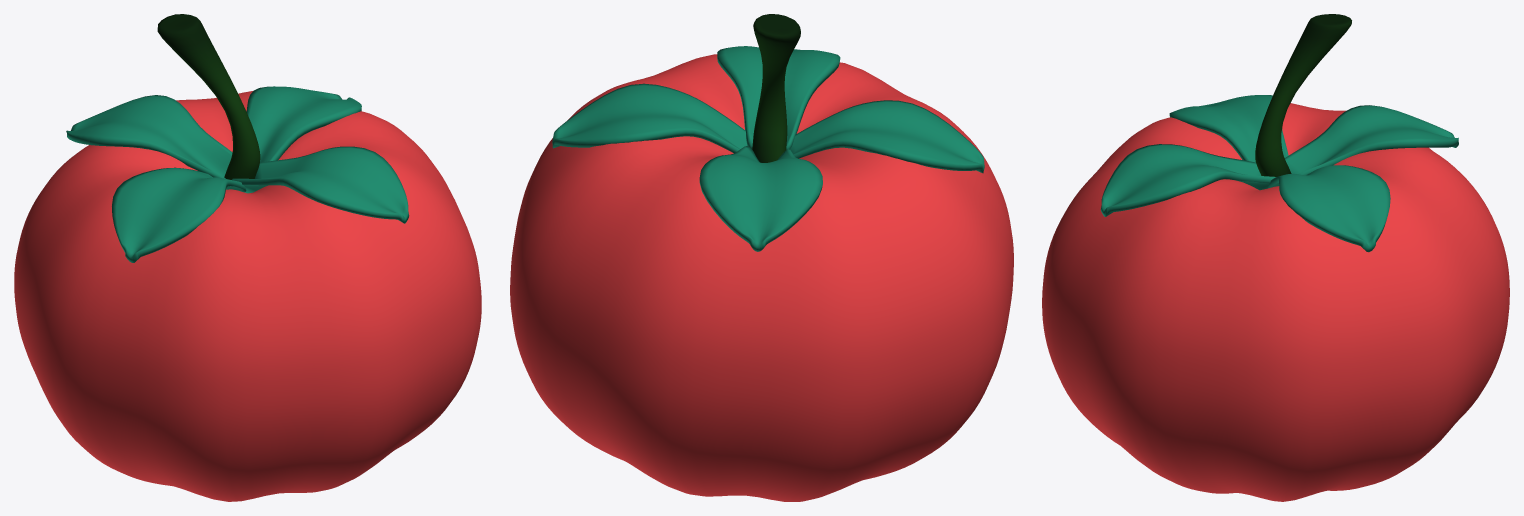
Rendered from Tomate.fbx.
The picture shows the model from 3 angles, left to right: view 1: azimuth 30°, elevation 25°; view 2: azimuth 150°, elevation 25°; view 3: azimuth 270°, elevation 25°; orthographic projection. The views are drawn at different scales.
Visible parts, largest first — view 1: Tomate, Hoja 2; view 2: Tomate, Hoja 2; view 3: Tomate, Hoja 2.
Boxes of the visible parts, bbox=[...] form: Tomate: bbox=[14, 91, 481, 501]; Hoja 2: bbox=[66, 14, 409, 262]; Tomate: bbox=[510, 54, 1013, 501]; Hoja 2: bbox=[552, 14, 984, 251]; Tomate: bbox=[1042, 103, 1509, 501]; Hoja 2: bbox=[1100, 14, 1458, 252].
Bounding box in the file's own units: 68.98 × 70.68 × 68.98.
